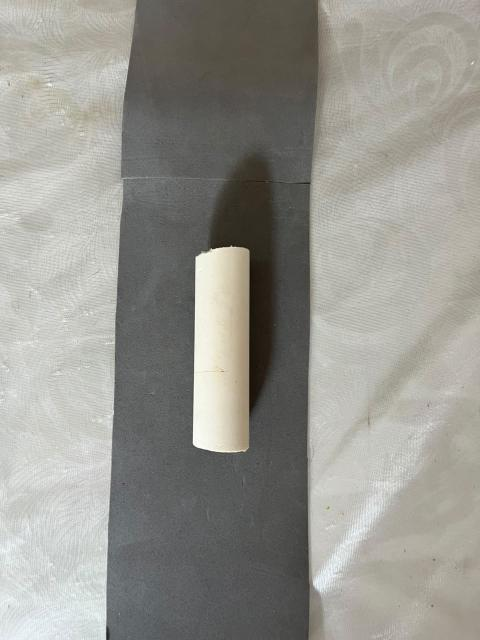PVC: (192, 246, 249, 452)
